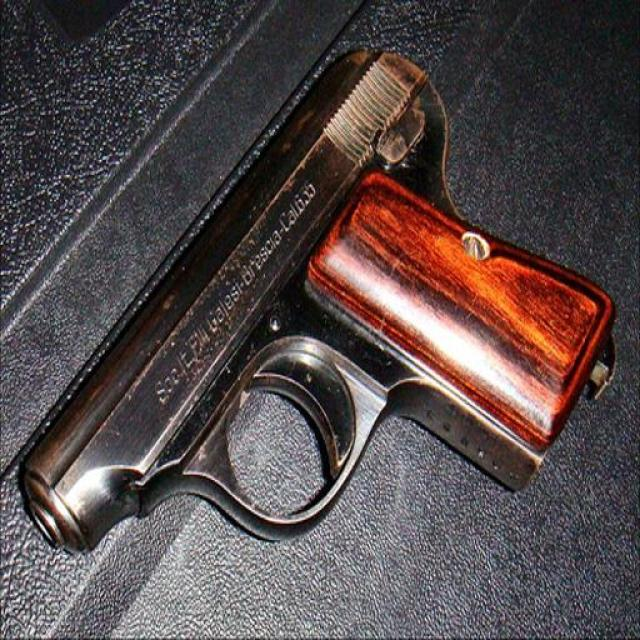pistol: (16, 48, 616, 556)
